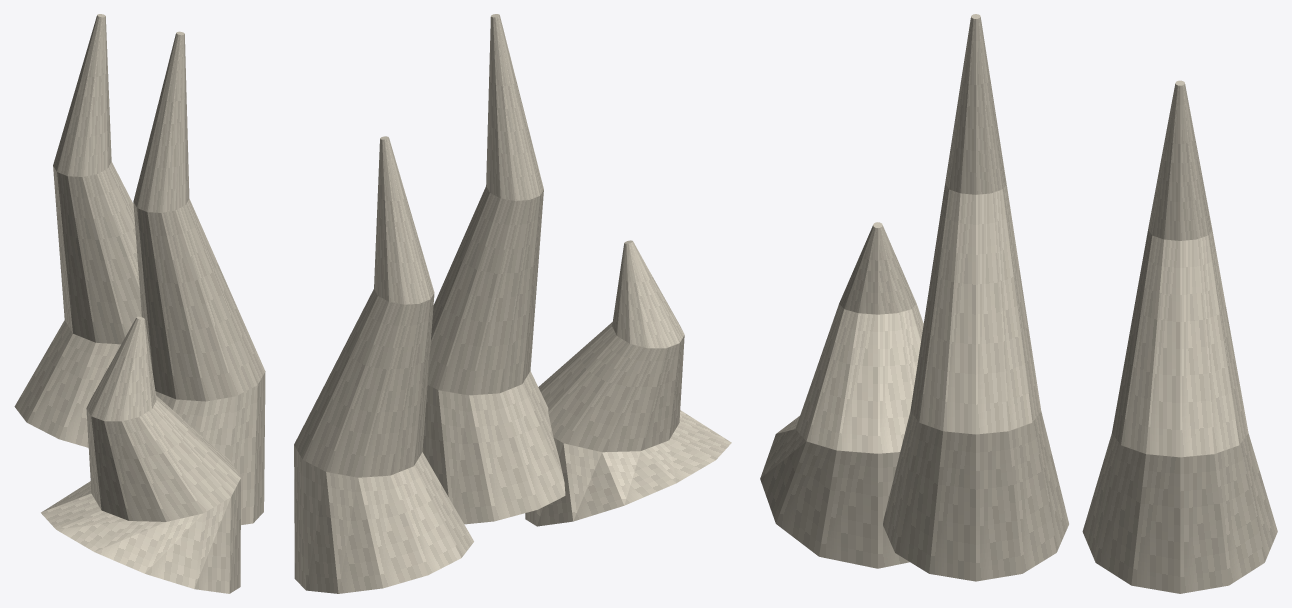
File: cave-and-crystal-networks-stalagmite-1-f5e5d9bc.glb
3 views of the same model, side by side, from view 1: azimuth 30°, elevation 25°; view 2: azimuth 150°, elevation 25°; view 3: azimuth 270°, elevation 25° (orthographic). The views are drawn at different scales.
Visible parts, largest first — view 1: stalagmite-1; view 2: stalagmite-1; view 3: stalagmite-1.
Boxes of the visible parts, bbox=[...] form: stalagmite-1: bbox=[14, 14, 265, 593]; stalagmite-1: bbox=[294, 14, 731, 593]; stalagmite-1: bbox=[760, 14, 1277, 593].
Bounding box in the file's own units: 0.4124 × 0.7569 × 0.6426.
Materials: 1 (1 with a texture image).
